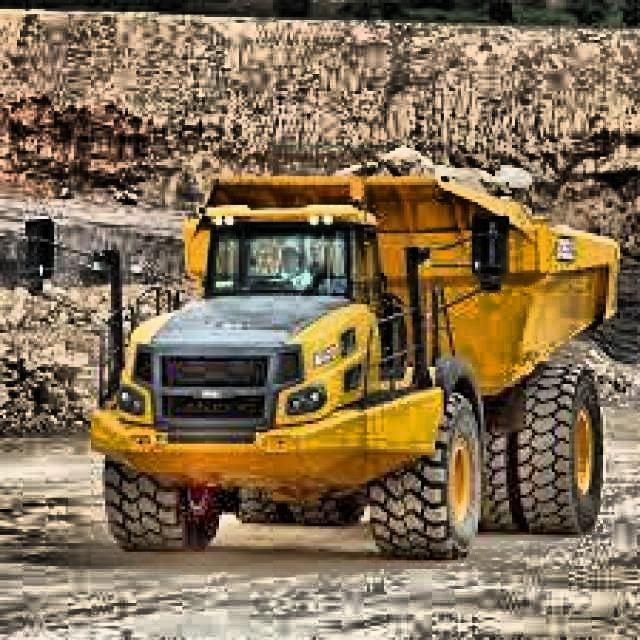dump_truck: (88, 154, 623, 586)
